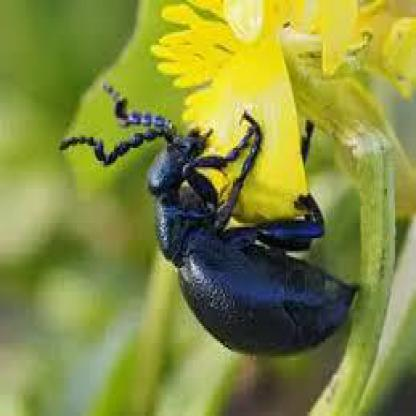blister beetle: (56, 80, 357, 361)
